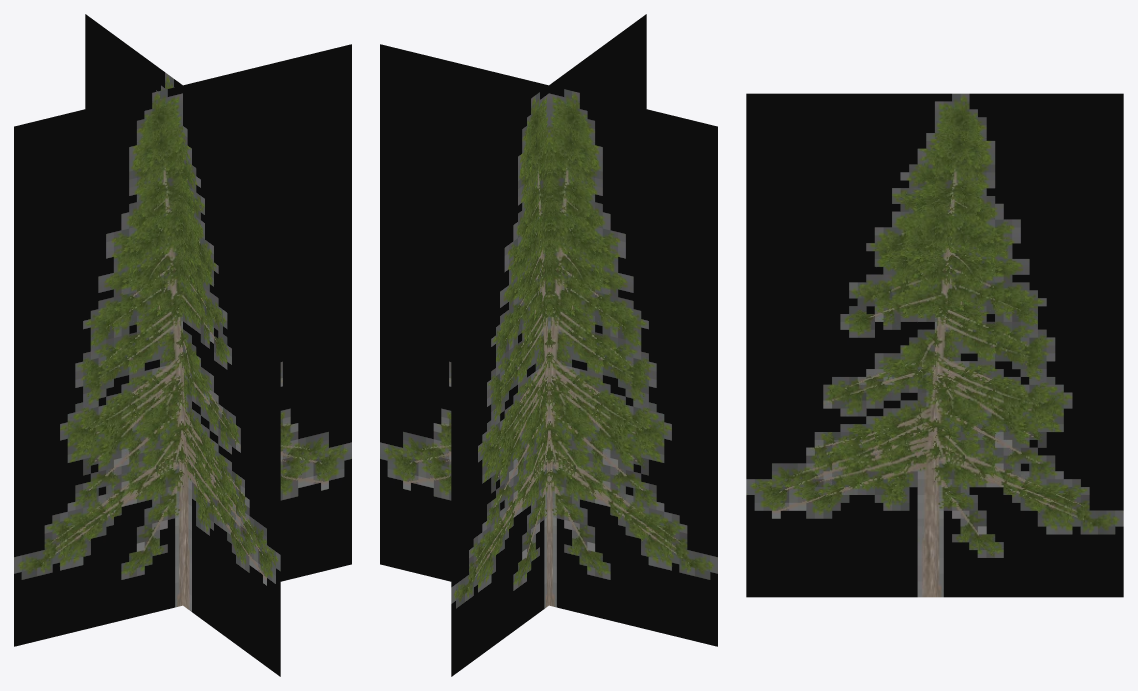
Rendered from pine_medium_b_far.glb.
The picture shows the model from 3 angles, left to right: view 1: azimuth 30°, elevation 25°; view 2: azimuth 150°, elevation 25°; view 3: azimuth 270°, elevation 25°; orthographic projection. The views are drawn at different scales.
Visible parts, largest first — view 1: impostor; view 2: impostor; view 3: impostor.
Boxes of the visible parts, x1,y1,x2,y2 form: impostor: (14, 14, 351, 676); impostor: (380, 14, 717, 676); impostor: (746, 93, 1123, 597).
Size of the model in its own units: 6.79 by 10 by 6.79.
Materials: 1 (1 with a texture image).
